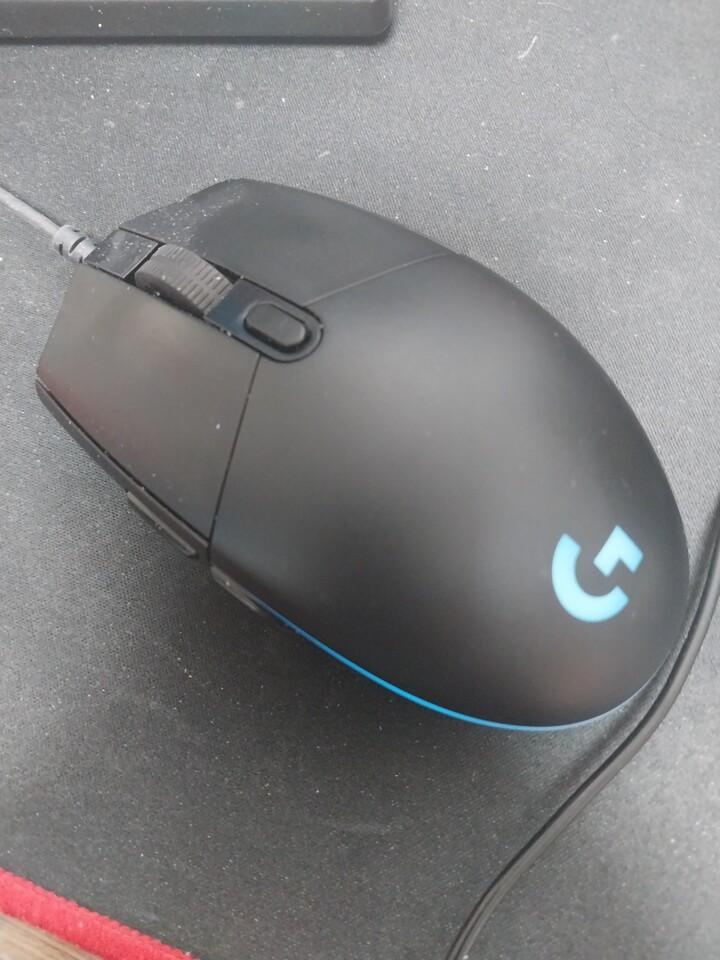mouse: (33, 175, 692, 732)
